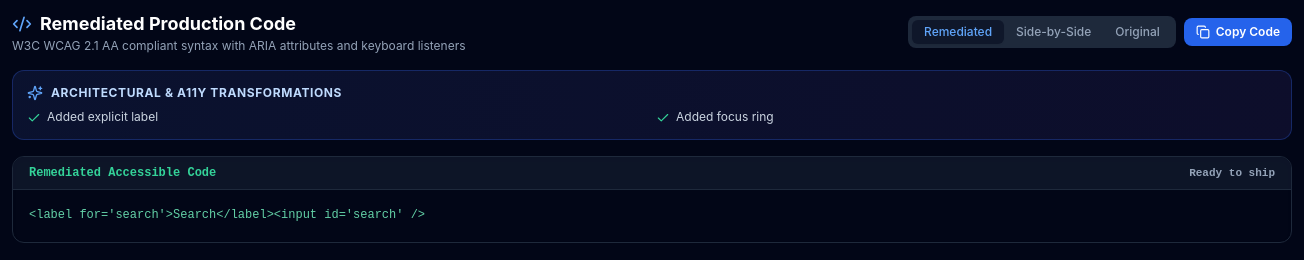
Test case: DiffViewer Component › switches view mode when buttons are clicked
Click the button "Original".
click(1138, 32)  # box [1103, 20, 1172, 44]
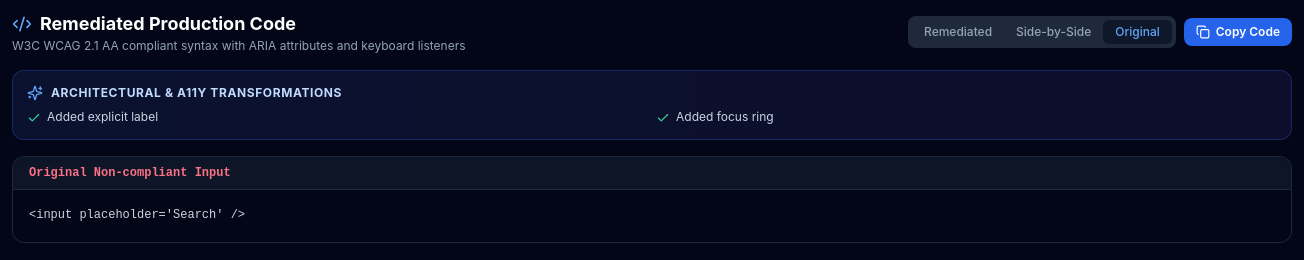
Expected: the text "<input placeholder='Search' />" is shown, [29, 208, 245, 222]
